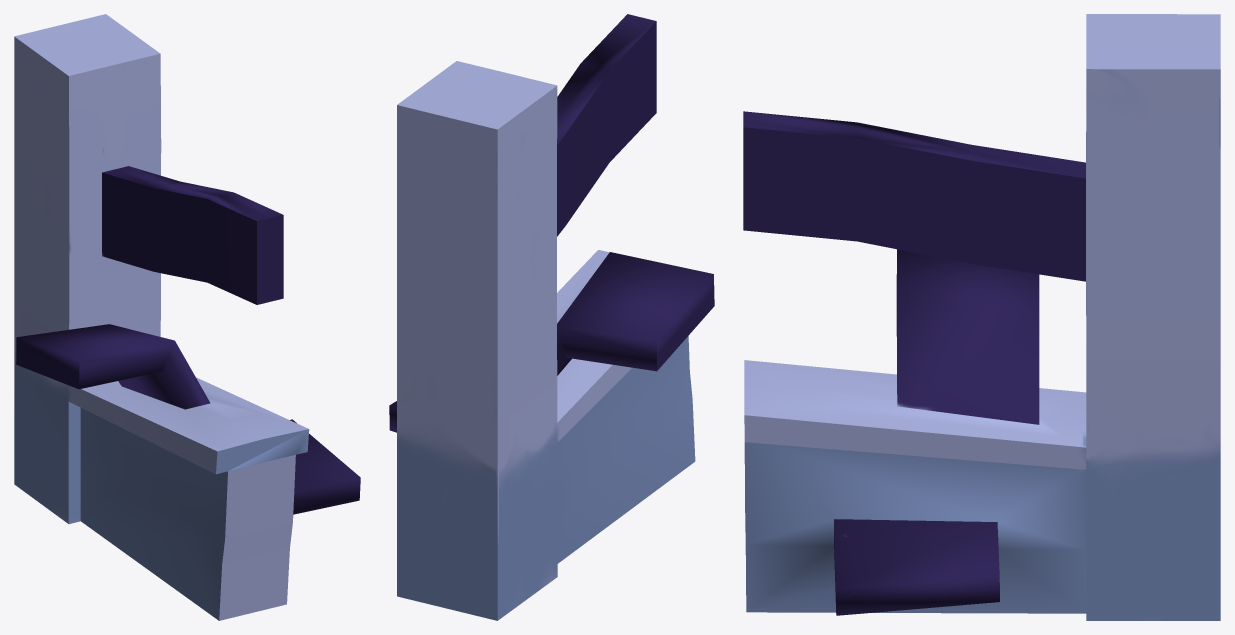
The model's file is SUP_ARCH_Fence_v01.fbx.
3 renders of one model, left to right at view 1: azimuth 30°, elevation 25°; view 2: azimuth 150°, elevation 25°; view 3: azimuth 270°, elevation 25°, orthographic. The views are drawn at different scales.
Parts seen in each view (by area): view 1: SUP_fence; view 2: SUP_fence; view 3: SUP_fence.
Part boxes in pixels (x1,y1,x2,y2): SUP_fence: (14, 14, 360, 620); SUP_fence: (389, 14, 714, 620); SUP_fence: (743, 14, 1220, 620).
Bounding box in the file's own units: 133 × 217 × 170.
1 material, 1 textured.
